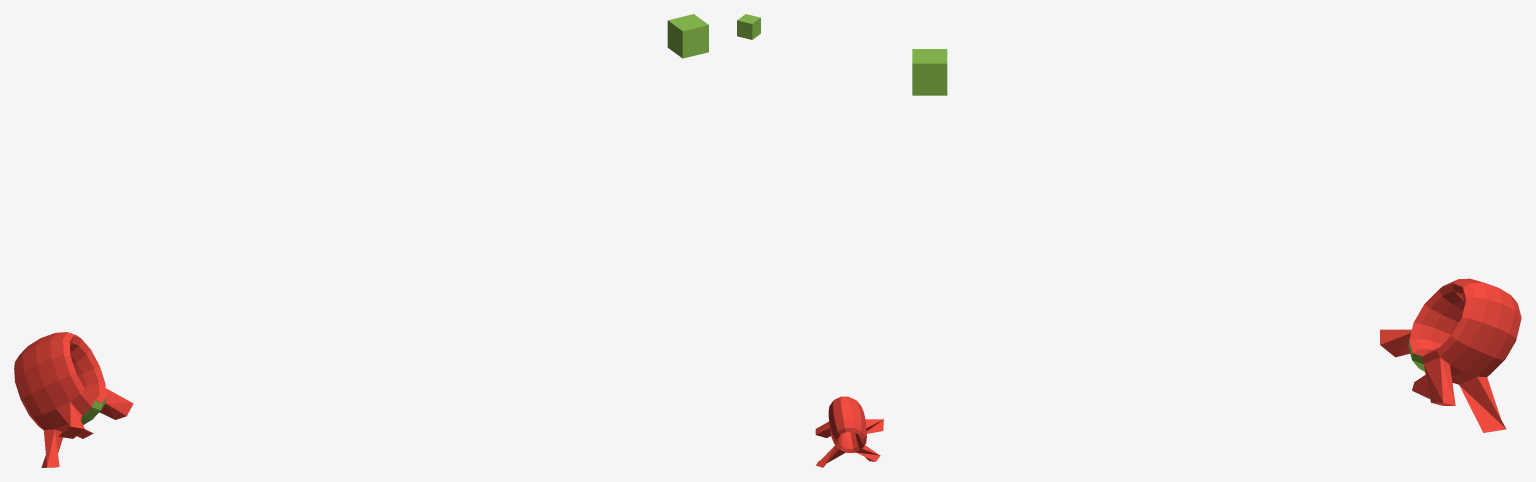
3 renders of one model, left to right at view 1: azimuth 30°, elevation 25°; view 2: azimuth 150°, elevation 25°; view 3: azimuth 270°, elevation 25°, orthographic. The views are drawn at different scales.
Parts seen in each view (by area): view 1: mesh_518848796, mesh_1216315731; view 2: mesh_518848796, mesh_1216315731; view 3: mesh_518848796, mesh_1216315731.
Boxes of the visible parts, left/top/right/bottom form: mesh_518848796: left=14, top=332, right=133, bottom=467; mesh_1216315731: left=667, top=14, right=708, bottom=58; mesh_518848796: left=815, top=396, right=883, bottom=467; mesh_1216315731: left=737, top=14, right=760, bottom=39; mesh_518848796: left=1380, top=278, right=1521, bottom=432; mesh_1216315731: left=912, top=49, right=947, bottom=95.
Bounding box in the file's own units: 137 × 147 × 139.
